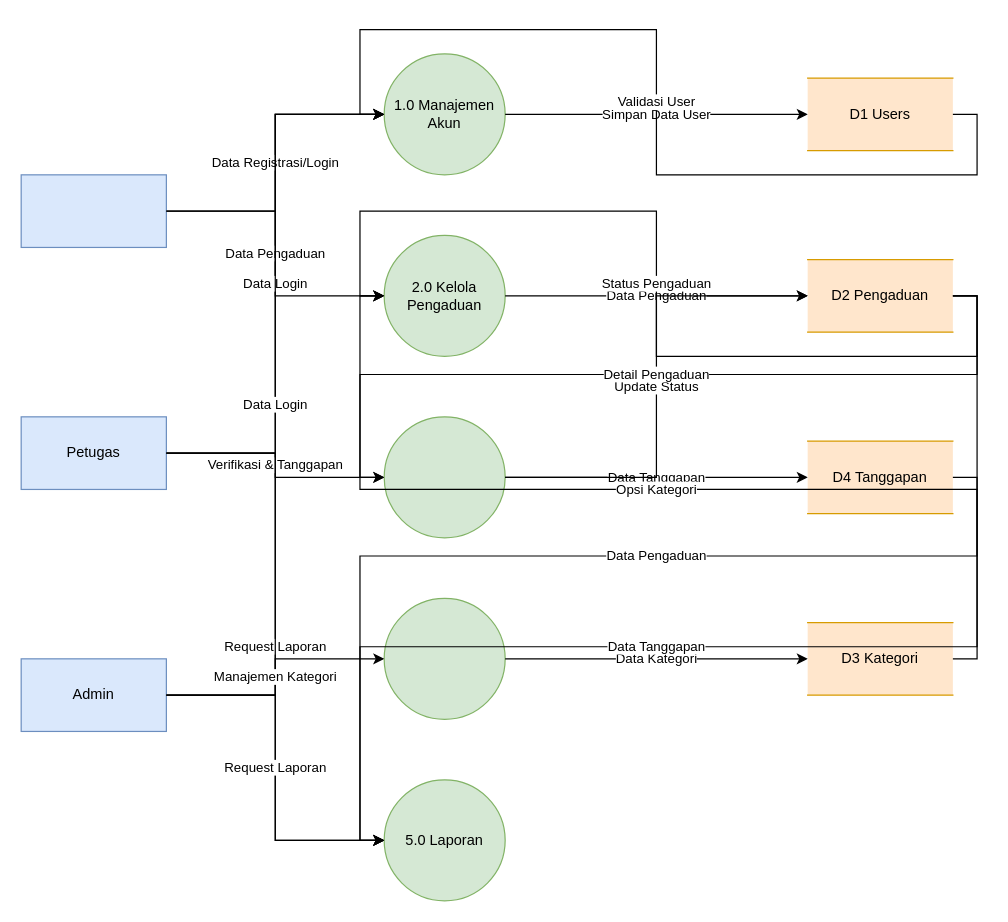
Some shapes in this 1008 by 922 pixel diagram are drawn without their labels. The shapes that lost their labels are listed below. From the top down, each one's box as (x1, y1, x2, y2) in pixels, then its label:
(20, 174, 166, 247): Pelapor (Masyarakat)
(383, 416, 505, 538): 3.0 Tindak Lanjut & Tanggapan
(383, 597, 505, 719): 4.0 Kelola Data Master
